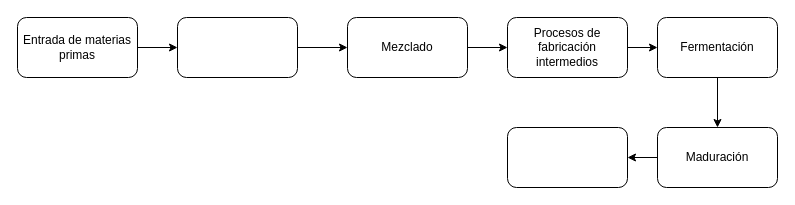
Image size: 795x205. Some labels were removed from this diagram. The centre of each missing label's shape, as x and y in pixels:
Embotellamiento: pixel 567 157
Procesos de producción iniciales: pixel 237 47
